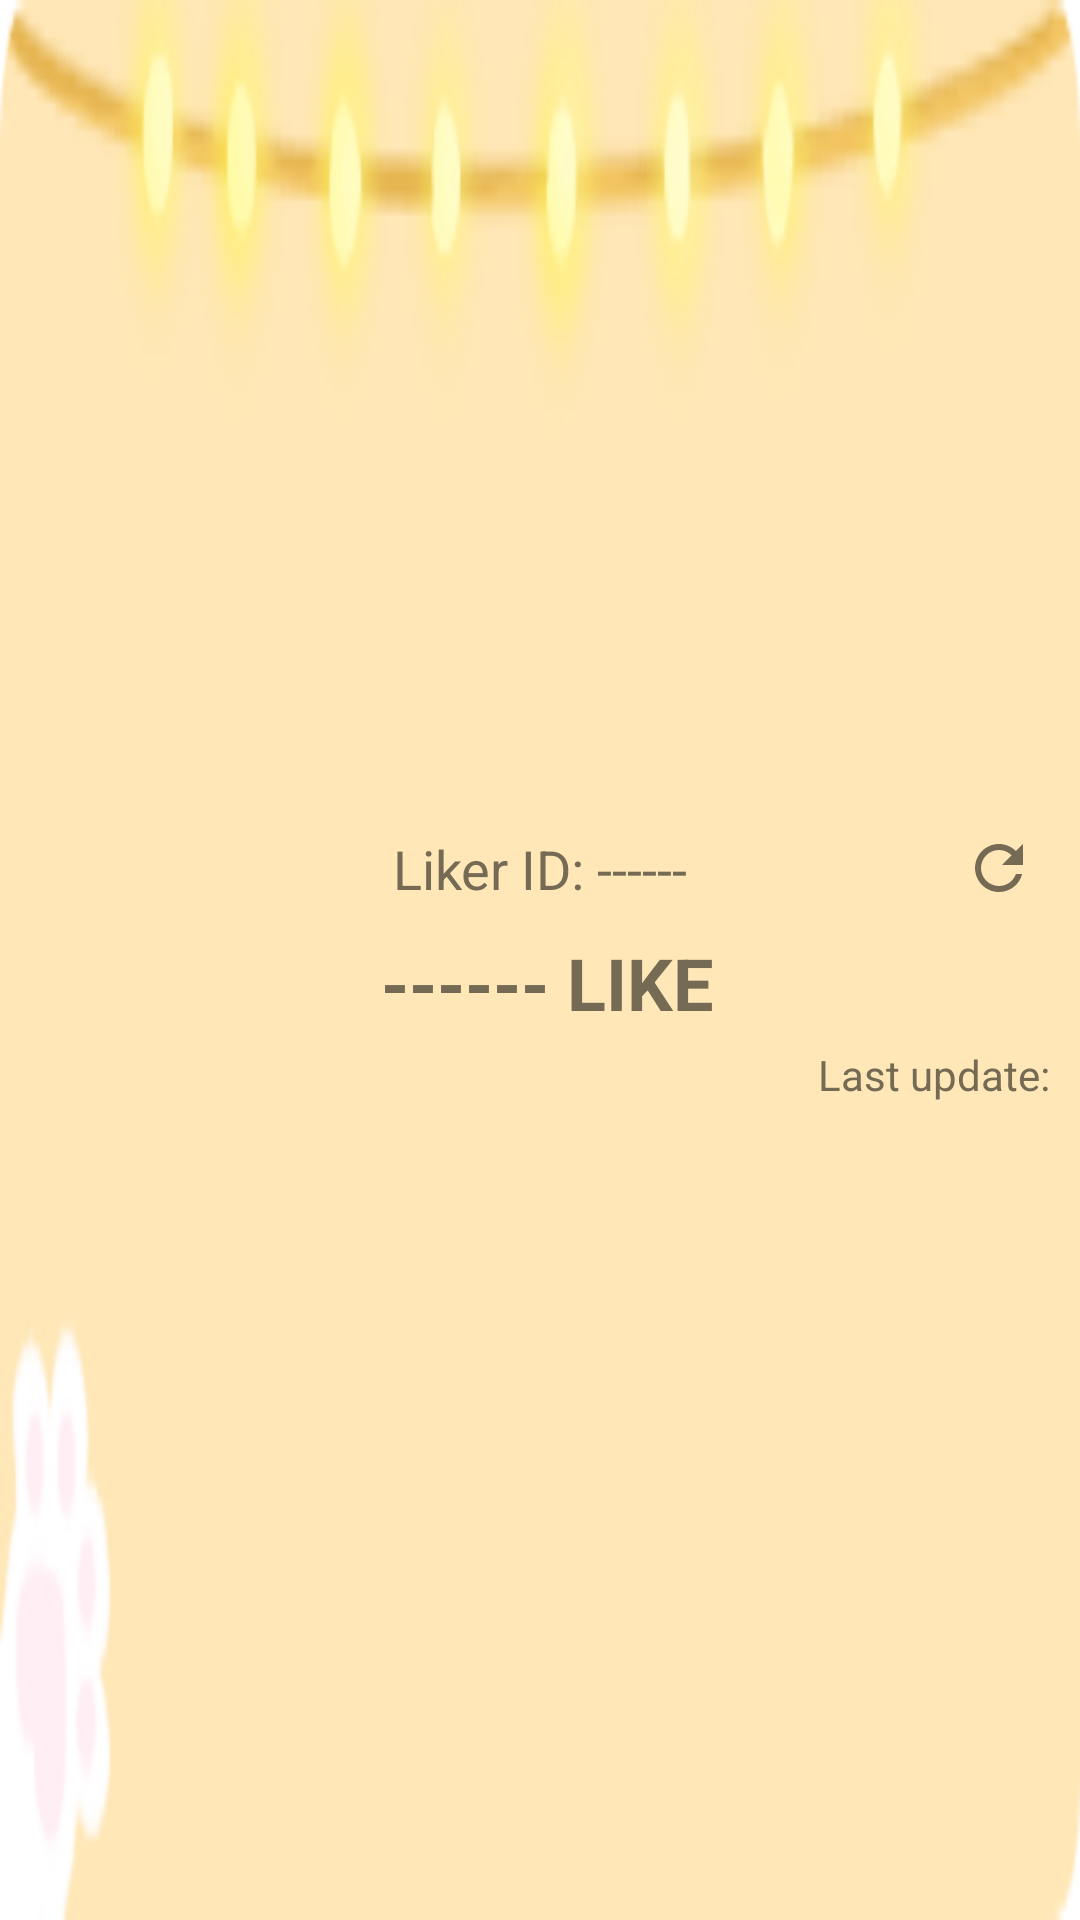

Icon click points for this 1080*1920 phone screenshot, format (x=x, y=y):
refresh: (x=999, y=868)
